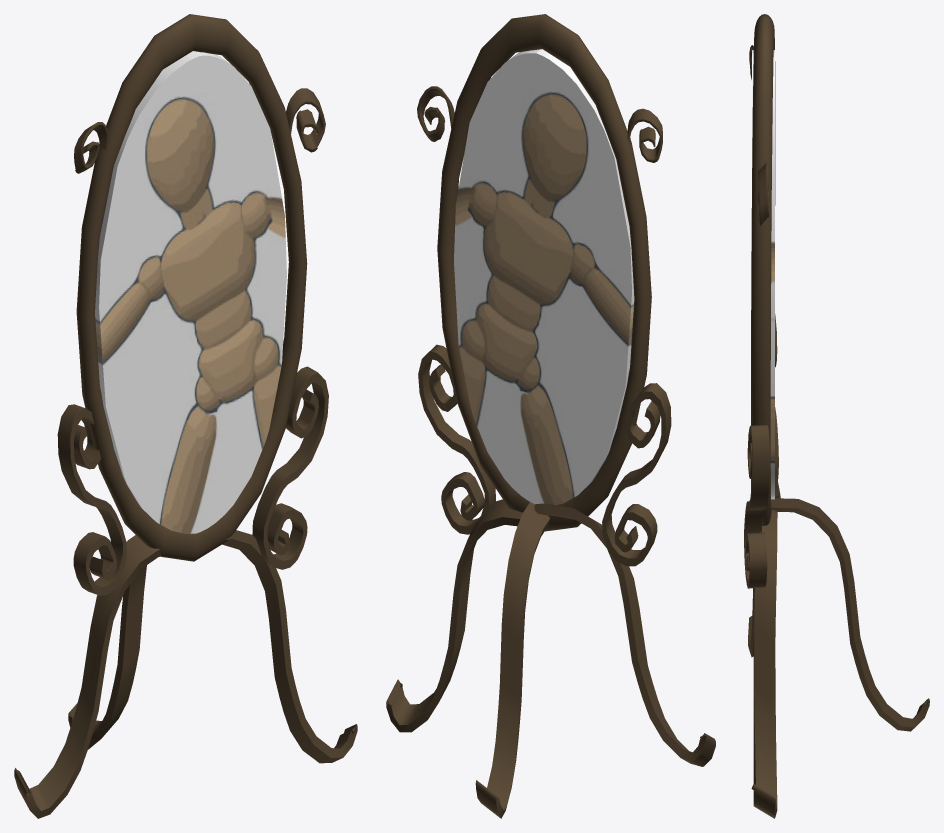
Rendered from mirror 3d figure.fbx.
The picture shows the model from 3 angles, left to right: view 1: azimuth 30°, elevation 25°; view 2: azimuth 150°, elevation 25°; view 3: azimuth 270°, elevation 25°; orthographic projection. The views are drawn at different scales.
Parts seen in each view (by area): view 1: planarTrimmedSurface1, grove_mirror:polySurface4, grove_mirror:polySurface7, grove_mirror:polySurface3, grove_mirror:polySurface2, grove_mirror:polySurface5, grove_mirror:polySurface8, grove_mirror:polySurface6, grove_mirror:polySurface9; view 2: planarTrimmedSurface1, grove_mirror:polySurface4, grove_mirror:polySurface8, grove_mirror:polySurface3, grove_mirror:polySurface2, grove_mirror:polySurface5, grove_mirror:polySurface7, grove_mirror:polySurface9, grove_mirror:polySurface6; view 3: grove_mirror:polySurface4, grove_mirror:polySurface5, grove_mirror:polySurface8, grove_mirror:polySurface3, planarTrimmedSurface1, grove_mirror:polySurface6, grove_mirror:polySurface7.
Part boxes in pixels (x1=…): planarTrimmedSurface1: x1=95, y1=51, x2=286, y2=533; grove_mirror:polySurface4: x1=76, y1=14, x2=307, y2=561; grove_mirror:polySurface7: x1=14, y1=535, x2=162, y2=818; grove_mirror:polySurface3: x1=252, y1=366, x2=328, y2=569; grove_mirror:polySurface2: x1=57, y1=404, x2=126, y2=595; grove_mirror:polySurface5: x1=222, y1=530, x2=357, y2=763; grove_mirror:polySurface8: x1=68, y1=546, x2=192, y2=749; grove_mirror:polySurface6: x1=286, y1=88, x2=325, y2=152; grove_mirror:polySurface9: x1=74, y1=122, x2=108, y2=173; planarTrimmedSurface1: x1=454, y1=49, x2=634, y2=504; grove_mirror:polySurface4: x1=437, y1=14, x2=651, y2=531; grove_mirror:polySurface8: x1=475, y1=502, x2=550, y2=818; grove_mirror:polySurface3: x1=418, y1=344, x2=495, y2=534; grove_mirror:polySurface2: x1=602, y1=383, x2=671, y2=566; grove_mirror:polySurface5: x1=386, y1=499, x2=522, y2=732; grove_mirror:polySurface7: x1=534, y1=503, x2=715, y2=766; grove_mirror:polySurface9: x1=627, y1=108, x2=662, y2=162; grove_mirror:polySurface6: x1=417, y1=86, x2=454, y2=141; grove_mirror:polySurface4: x1=751, y1=14, x2=775, y2=525; grove_mirror:polySurface5: x1=751, y1=510, x2=777, y2=818; grove_mirror:polySurface8: x1=771, y1=498, x2=929, y2=731; grove_mirror:polySurface3: x1=744, y1=424, x2=769, y2=588; planarTrimmedSurface1: x1=752, y1=50, x2=774, y2=499; grove_mirror:polySurface6: x1=757, y1=162, x2=769, y2=225; grove_mirror:polySurface7: x1=748, y1=473, x2=780, y2=657.
Bounding box in the file's own units: 5.61 × 12.63 × 2.9.
